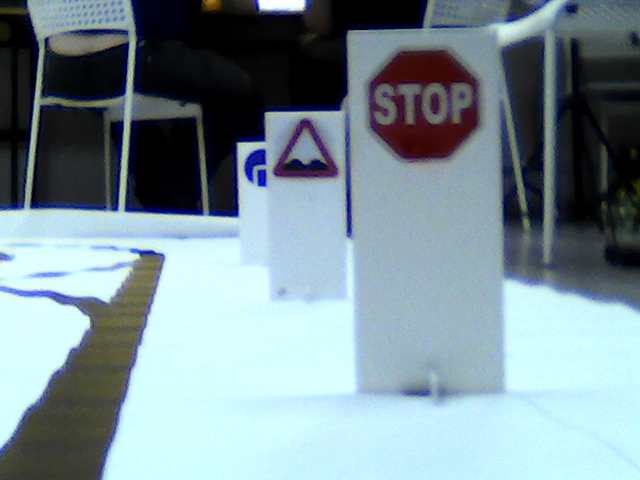Nerov: (273, 116, 341, 180)
Stop: (359, 45, 484, 164)
